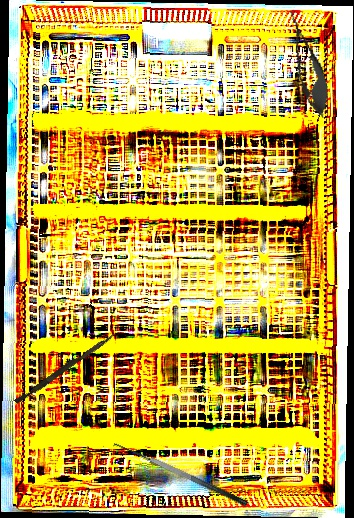Micro Scissor: (278, 5, 337, 122)
Pusher: (14, 329, 116, 407)
Spatula Surgical: (109, 436, 249, 518)
